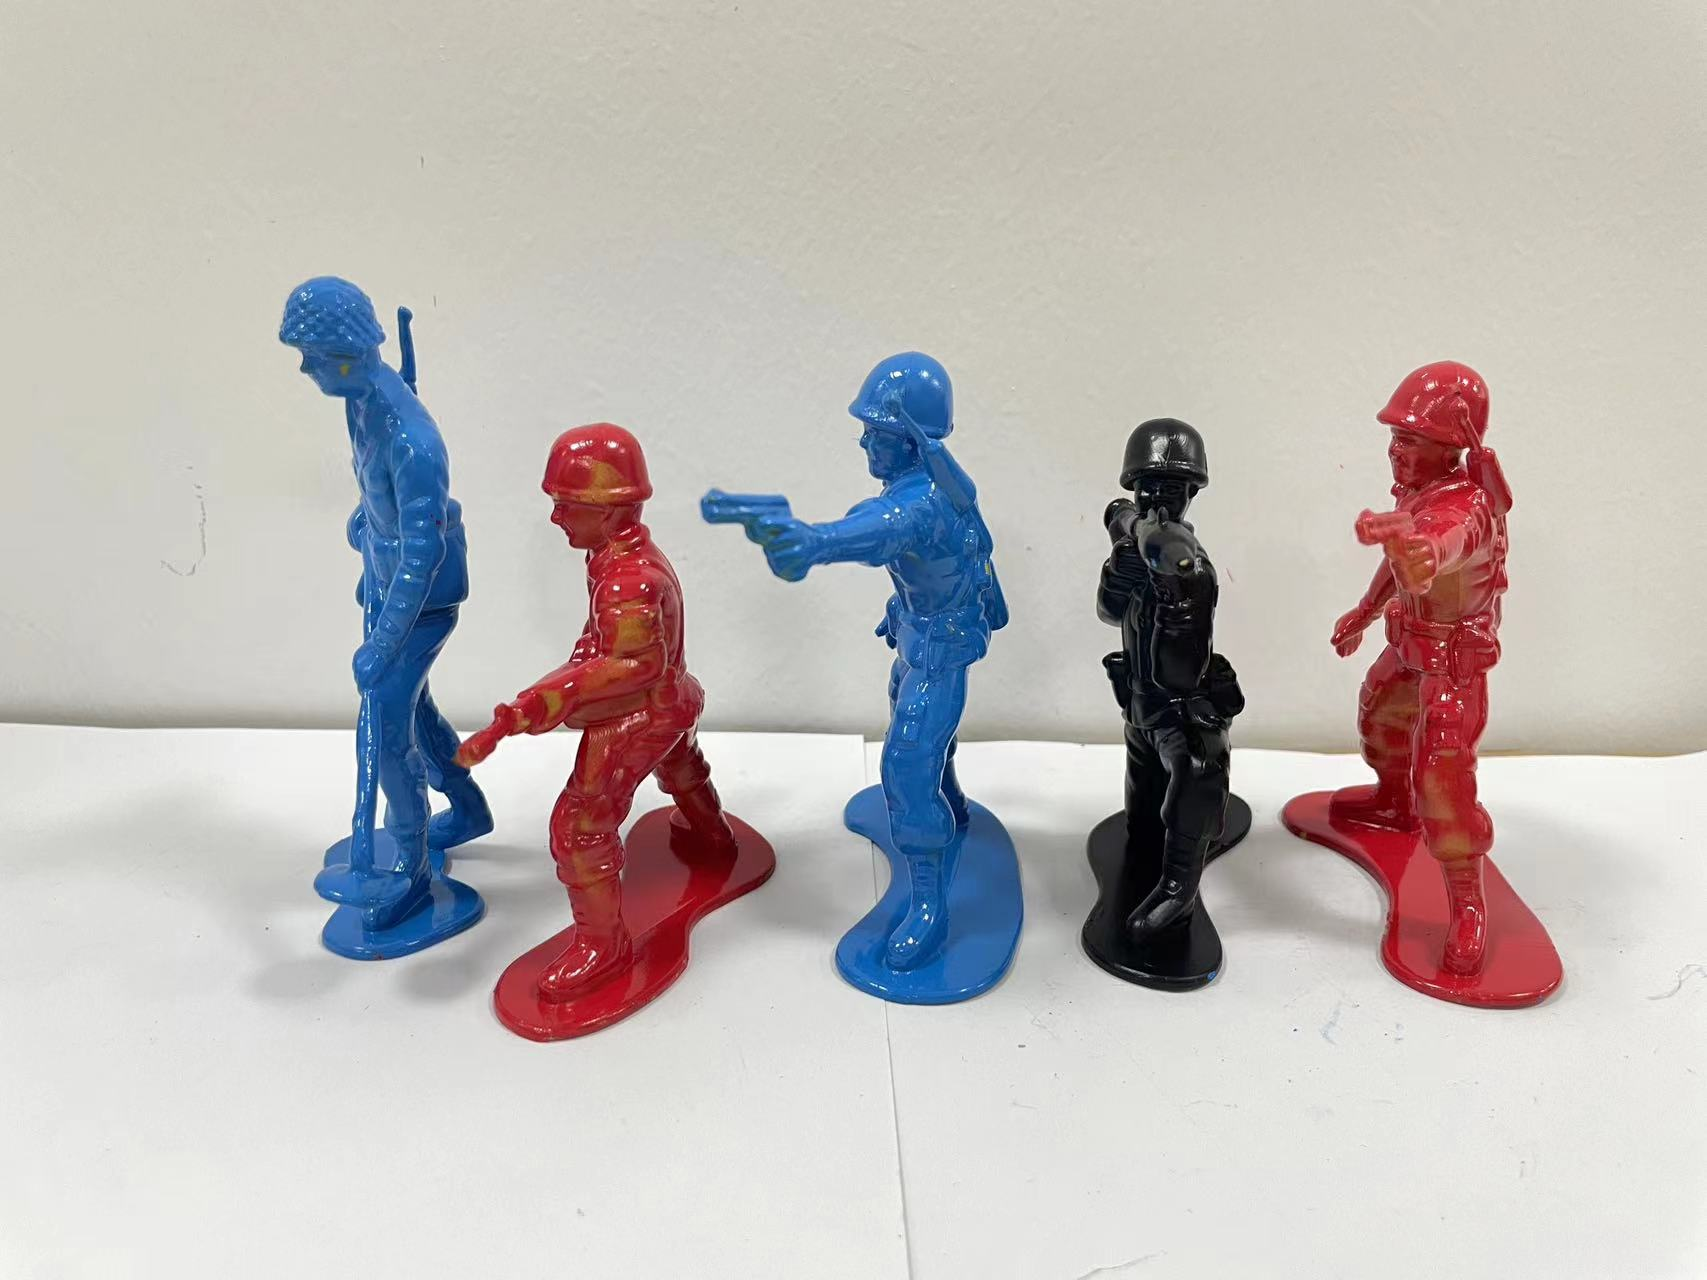black: (1047, 401, 1272, 1029)
blue: (710, 303, 1024, 1021), (259, 250, 501, 960)
red: (1281, 325, 1647, 1021), (481, 418, 781, 1053)
